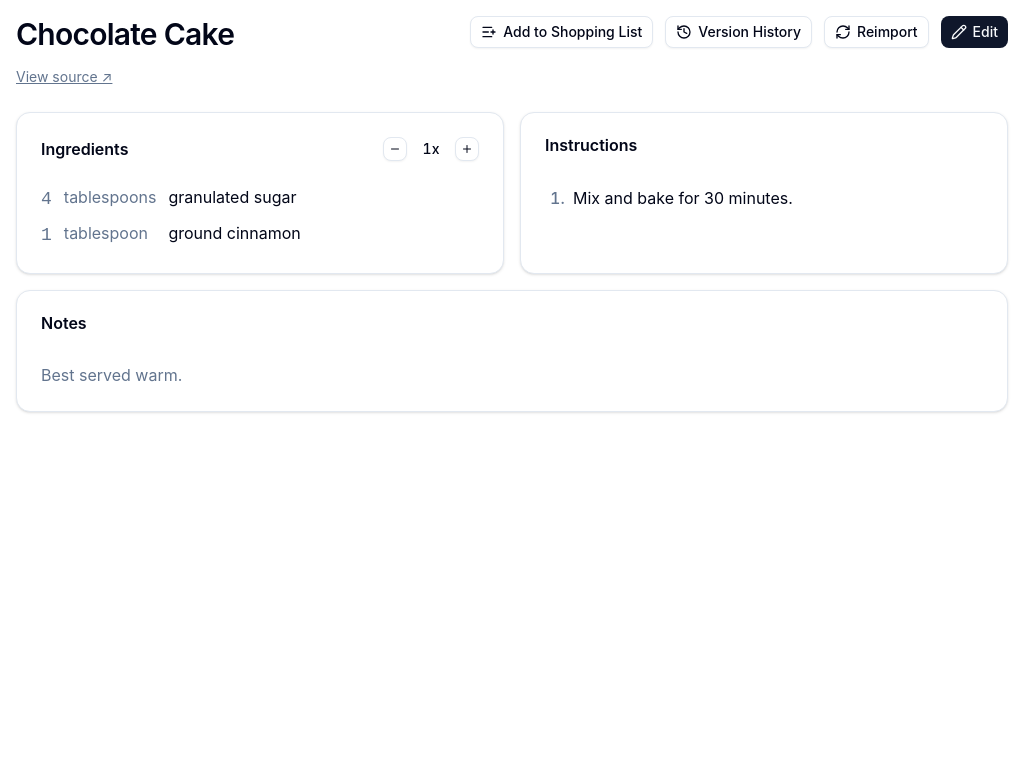
Scenario: RecipeDetailPage › toggles edit mode and shows the pre-filled edit form when Edit button clicked
Expected: the heading "Chocolate Cake" is shown, [16,16,234,60]
Click the button "Edit" at coordinates (974, 32), box [941,16,1008,48]
(page scrolled)
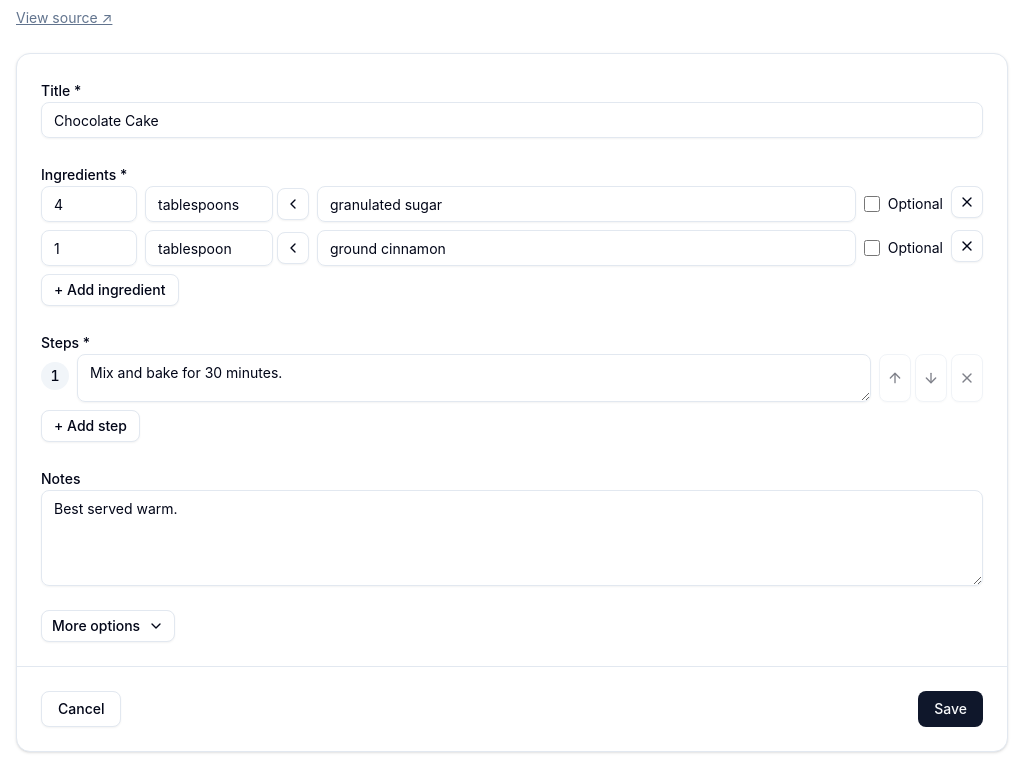
Result: the field labelled "Title *" holds "Chocolate Cake" at [41,102,983,138]
Result: the field named "name for ingredient 1" holds "granulated sugar" at [317,186,856,222]
Result: the button "Save" is shown at [918,691,983,727]
